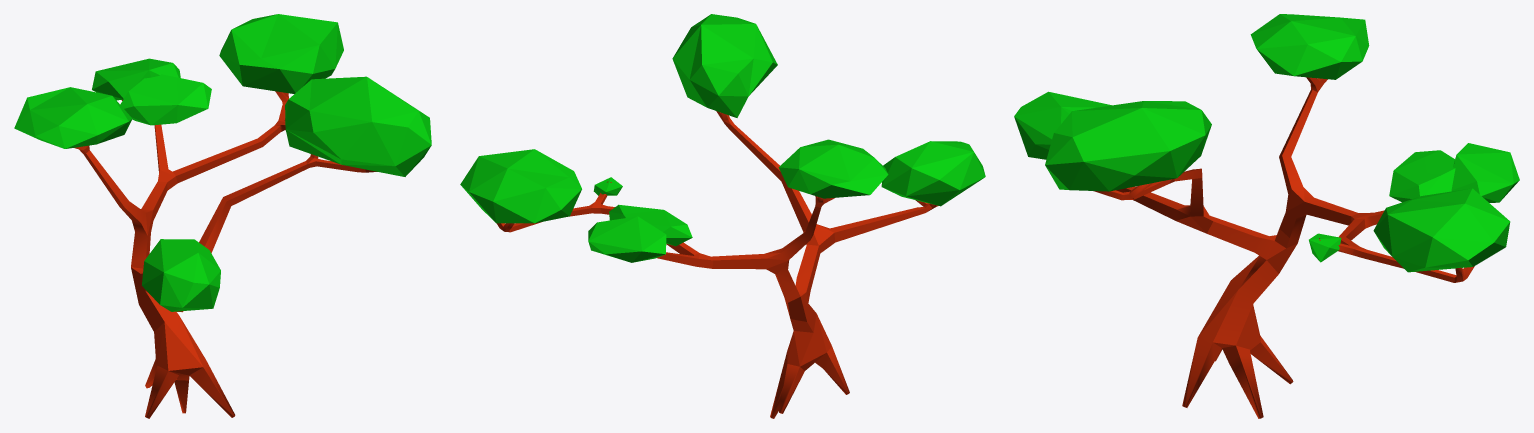
File: tree2.obj
3 renders of one model, left to right at view 1: azimuth 30°, elevation 25°; view 2: azimuth 150°, elevation 25°; view 3: azimuth 270°, elevation 25°, orthographic. The views are drawn at different scales.
Visible parts, largest first — view 1: Icosphere, Plane; view 2: Icosphere, Plane; view 3: Icosphere, Plane.
Boxes of the visible parts, left/top/right/bottom form: Icosphere: left=14, top=14, right=431, bottom=311; Plane: left=74, top=91, right=377, bottom=418; Icosphere: left=460, top=14, right=985, bottom=262; Plane: left=496, top=111, right=938, bottom=418; Icosphere: left=1014, top=14, right=1519, bottom=272; Plane: left=1093, top=77, right=1474, bottom=418.
Size of the model in its own units: 25.6 by 22.63 by 27.29.
